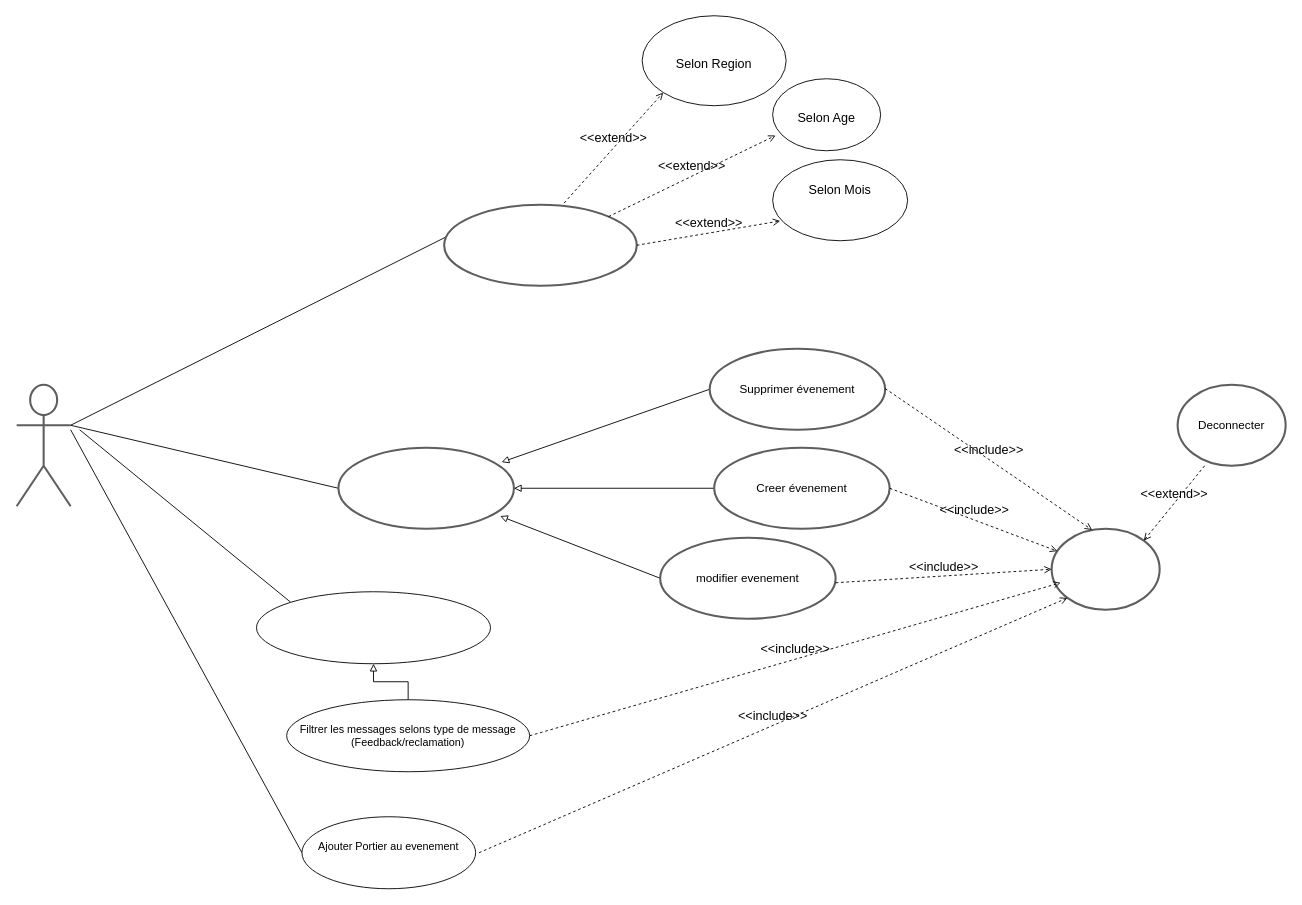
This 1302x905 diagram has some shape labels left out. The shapes that lost their labels are listed below. From the top down, each one's centre as x and y in pixels, then its label:
the point at 540,244: Consulter les statistiques des ventes
the point at 43,445: Organizateur
the point at 426,487: Gestion d'eveneenmts
the point at 1105,568: S'authentifier
the point at 373,627: Consulter des messages par les utilisateurs selon le type d'evenemts
